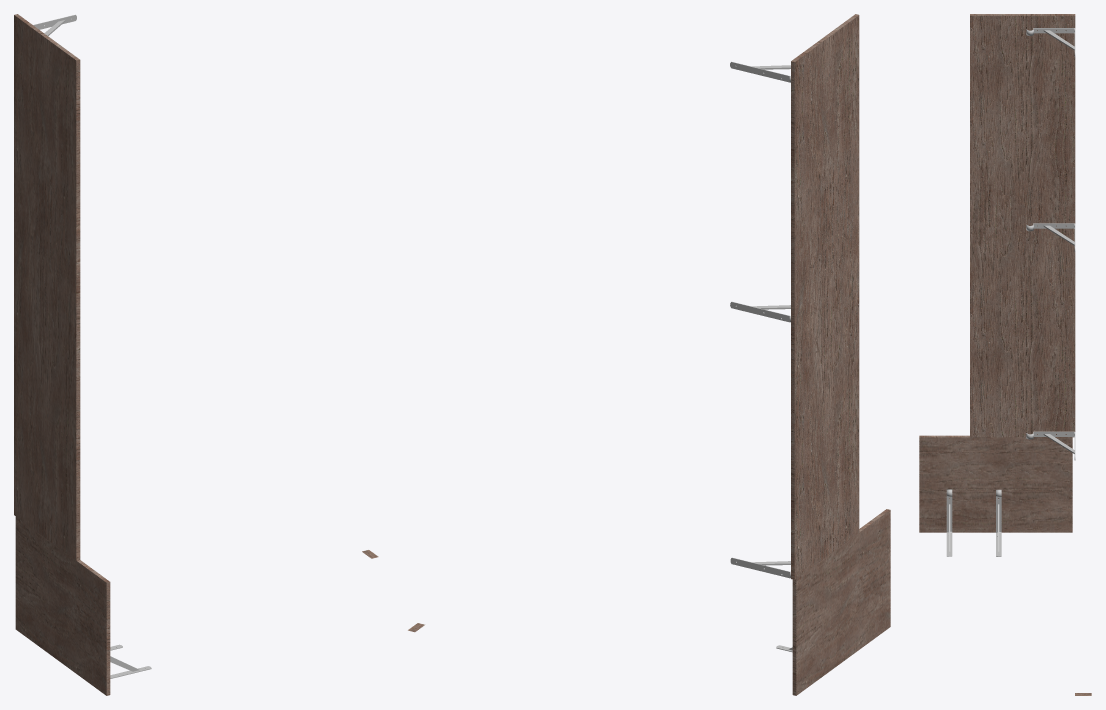
The model's file is Large corner shelf.fbx.
The picture shows the model from 3 angles, left to right: view 1: azimuth 30°, elevation 25°; view 2: azimuth 150°, elevation 25°; view 3: azimuth 270°, elevation 25°; orthographic projection. The views are drawn at different scales.
Parts seen in each view (by area): view 1: Large corner shelf; view 2: Large corner shelf; view 3: Large corner shelf.
Part boxes in pixels (x1,y1,x2,y2): Large corner shelf: [14, 14, 378, 695]; Large corner shelf: [408, 14, 890, 695]; Large corner shelf: [919, 14, 1091, 695].
Bounding box in the file's own units: 188 × 312 × 91.42.
